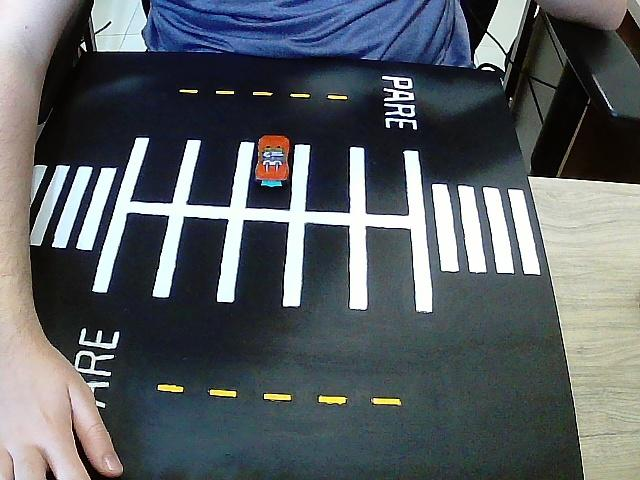Carro: (255, 135, 291, 188)
